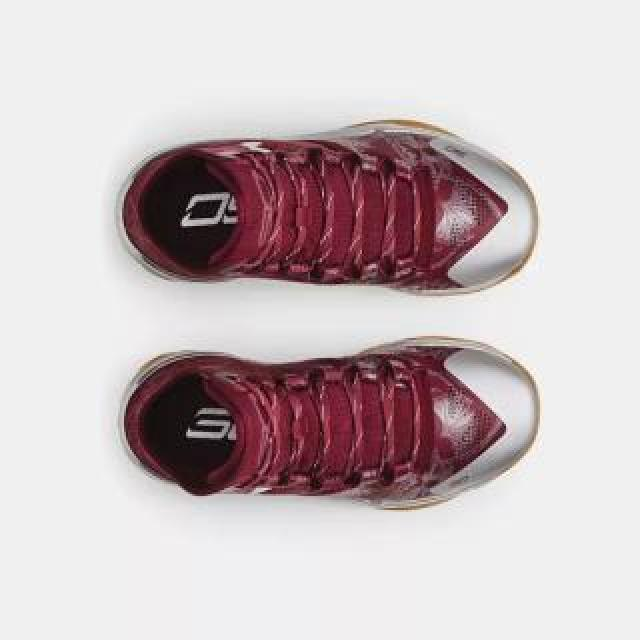shoe: (112, 114, 544, 299), (110, 115, 540, 299), (115, 331, 543, 514), (119, 332, 543, 512)
